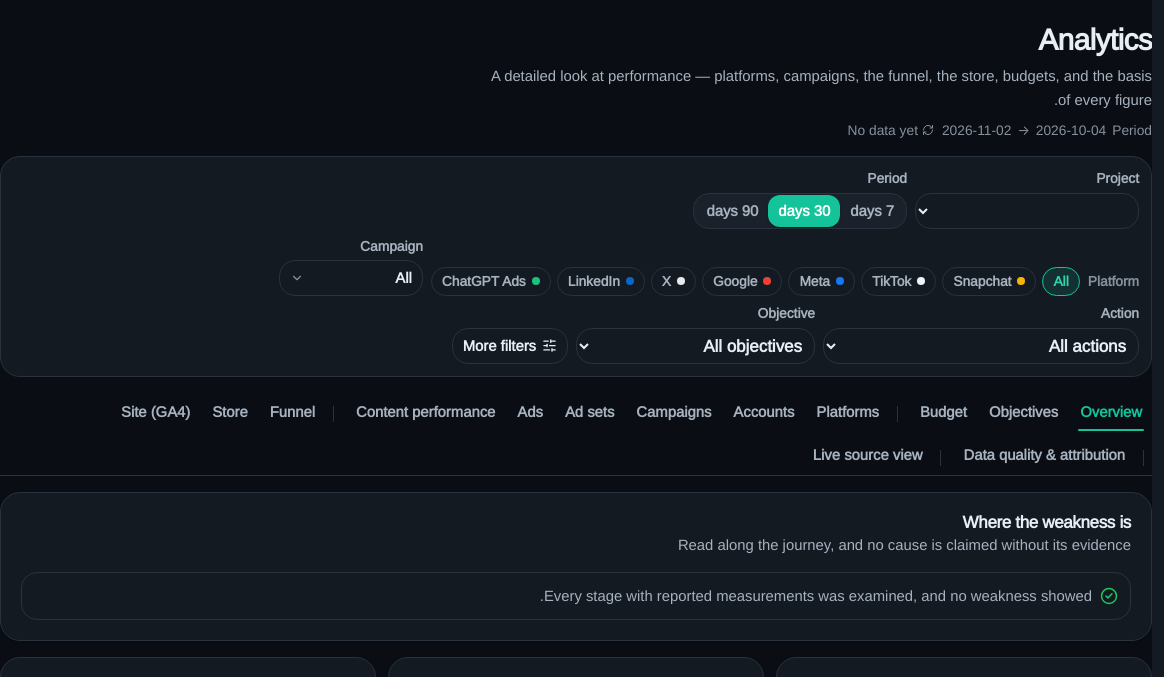
Test: the dashboard filter bar › leads with the metrics the objective is judged on
Expected: the header with test id "analytics-intro" is shown, [491, 23, 1152, 138]
Select "Sales" in the dropdown with test id "analytics-objective" at [696, 346], box [576, 328, 815, 364]
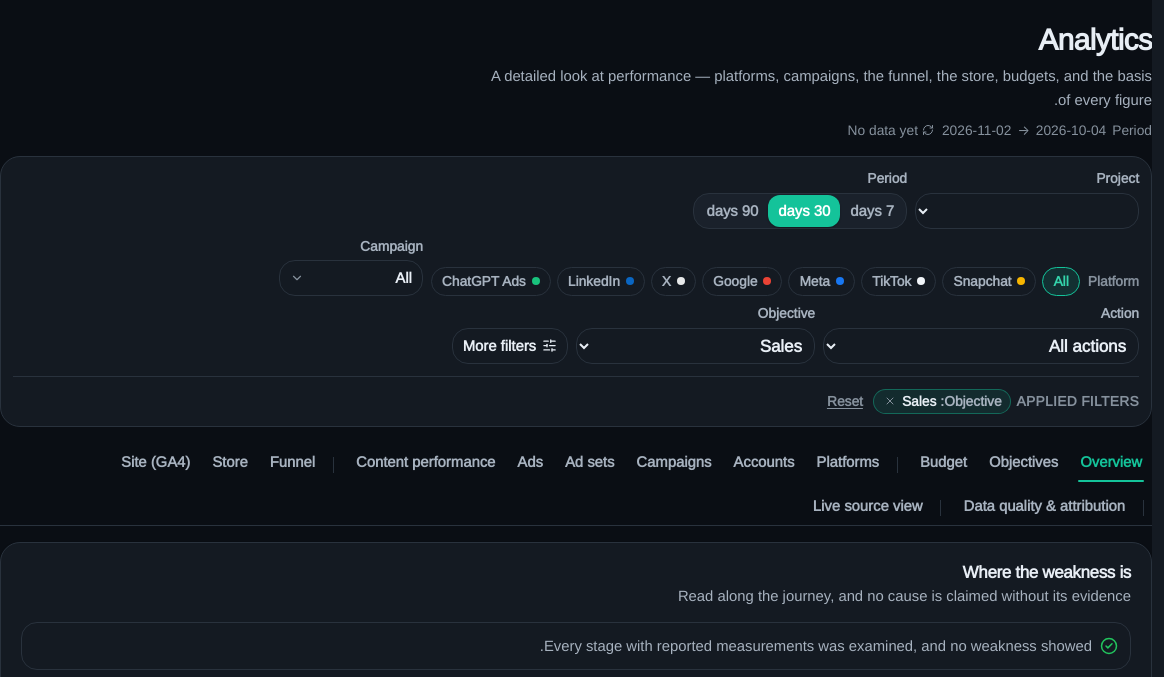
Select "Awareness & Engagement" in the dropdown with test id "analytics-objective" at [696, 346], box [576, 328, 815, 364]
(page scrolled)
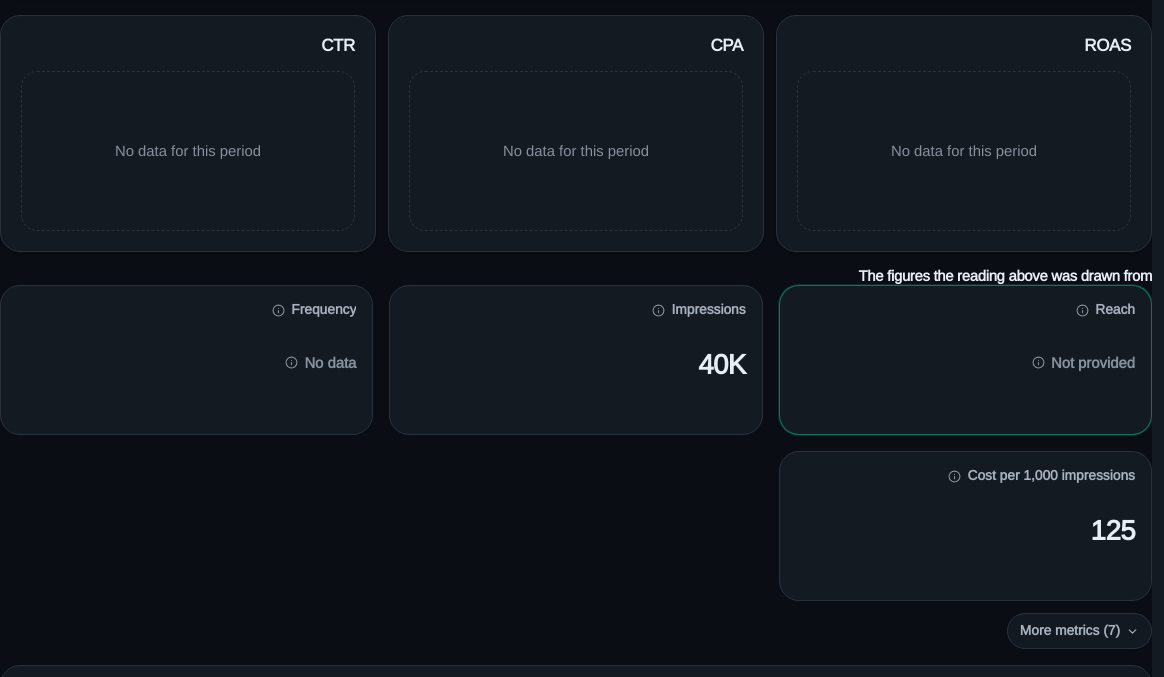
Now the element with test id "metric-reach" is shown, box [779, 285, 1152, 435]
